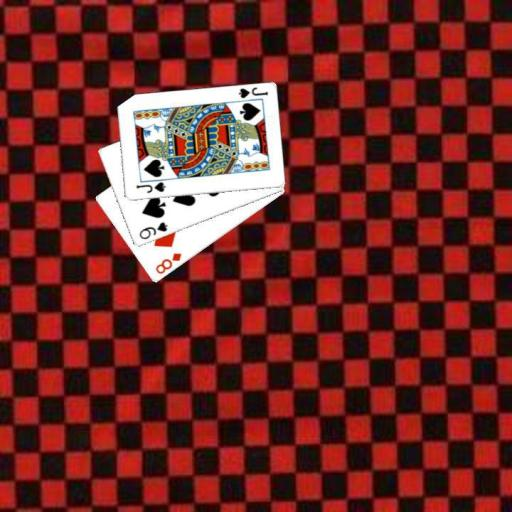8D: (152, 250, 183, 276)
9S: (136, 219, 169, 241)
JS: (133, 179, 167, 195), (235, 85, 269, 100)
